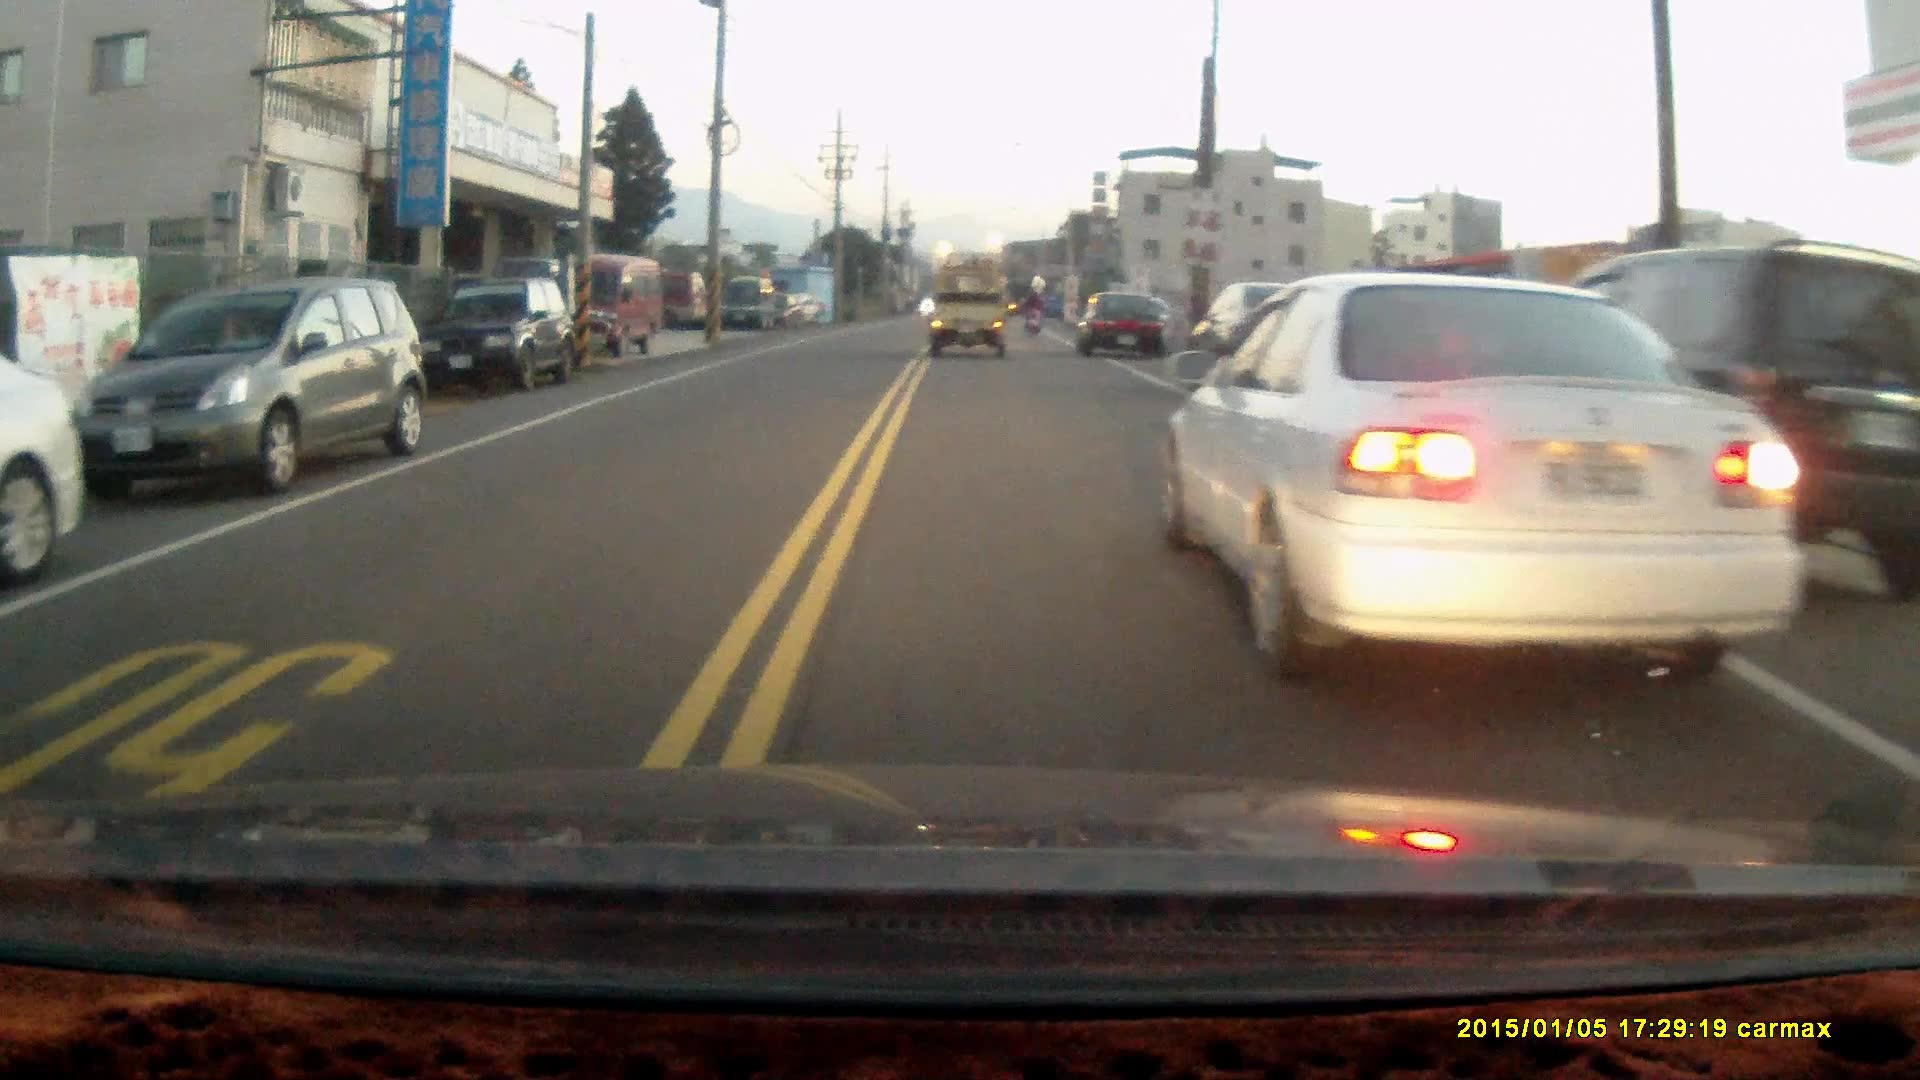rider: (1019, 286, 1046, 334)
vehicle: (1151, 270, 1813, 678), (1484, 247, 1920, 608), (72, 275, 426, 495), (1, 306, 83, 574), (439, 273, 576, 396), (555, 256, 673, 356), (1076, 293, 1172, 363), (936, 270, 1010, 358), (720, 276, 781, 328)
